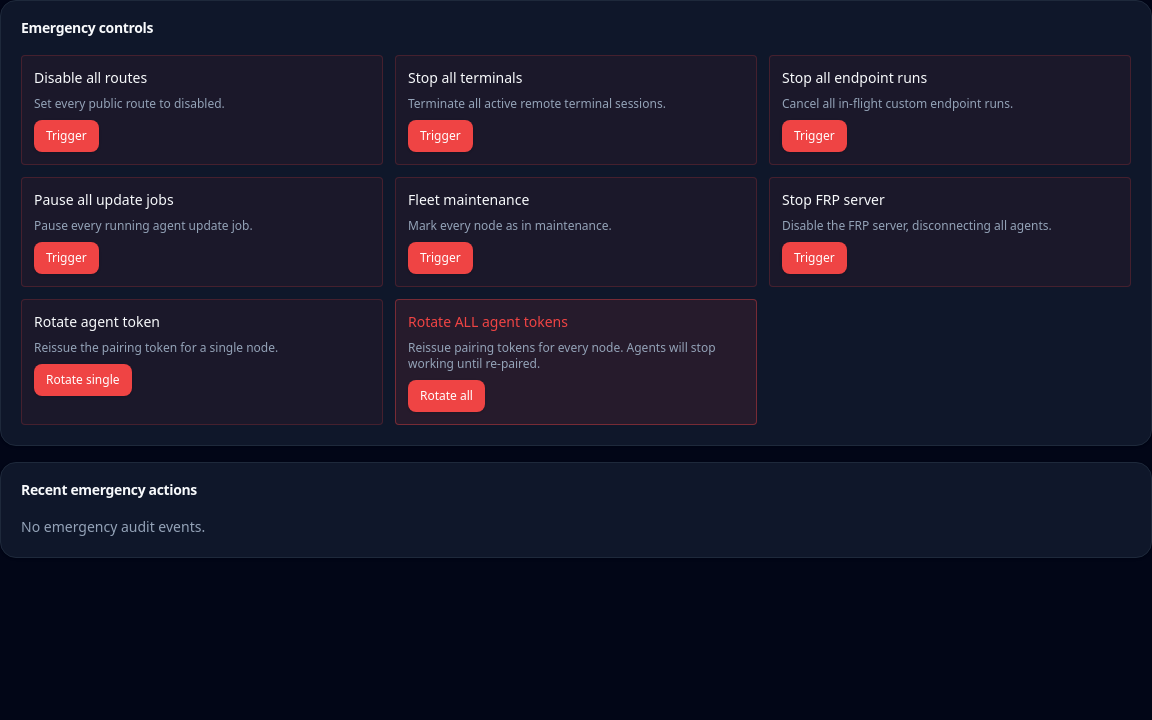
EmergencyControls › rotate all: confirmation shows blast radius, submit renders results table
Click the button "Rotate all" at (446, 396), box [408,380,485,412]
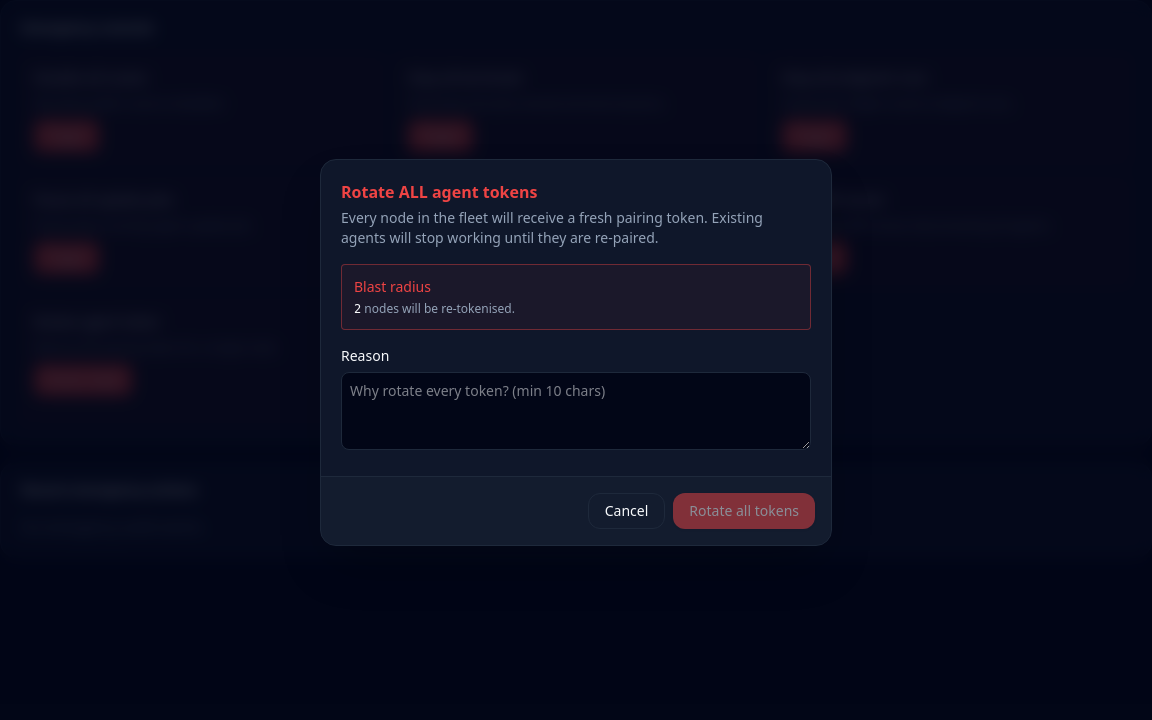
expect the text "2 nodes will be re-tokenised." is shown: met, box [354,300,515,316]
expect the button "Rotate all tokens" is disabled: met, box [673,492,815,528]
Type "Fleet-wide rotation exercise" into the text box labelled "Reason" at (576, 410), box [341,372,811,450]
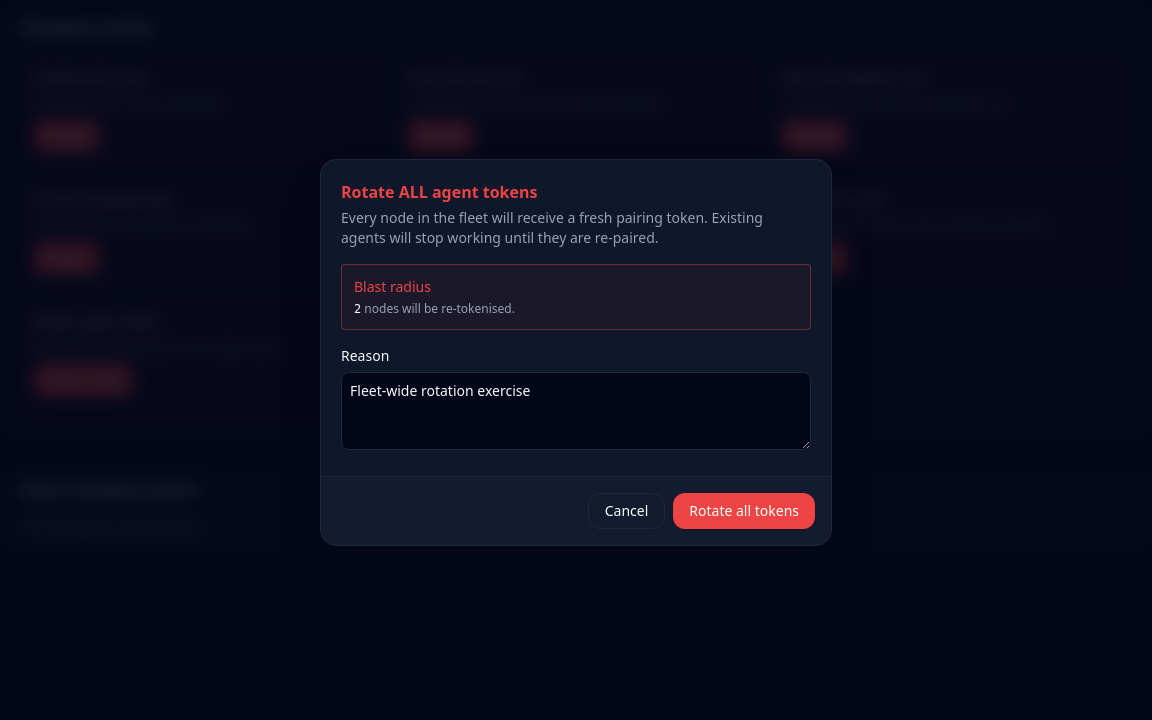
Click the button "Rotate all tokens" at (744, 510), box [673,492,815,528]
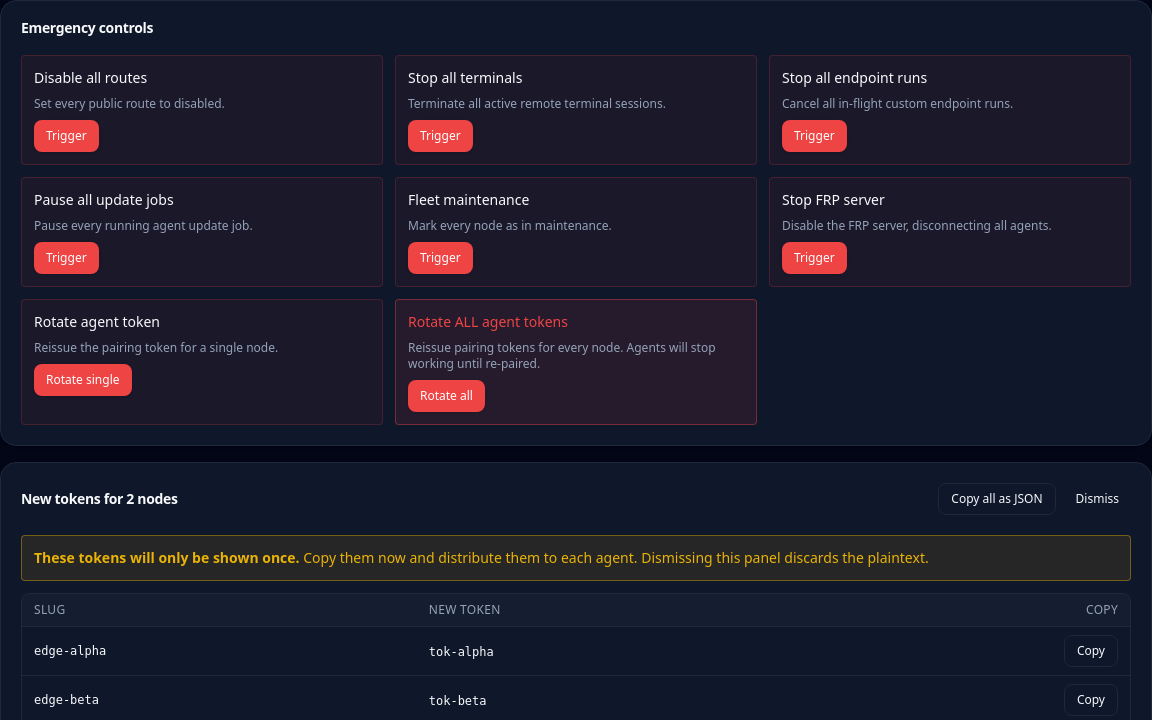
expect the heading "New tokens for 2 nodes" is shown: met, box [21,492,178,506]
expect the row with test id "rotate-all-row-edge-alpha" is shown: met, box [22,626,1130,676]
expect the text "tok-alpha" is shown: met, box [429,645,494,659]
